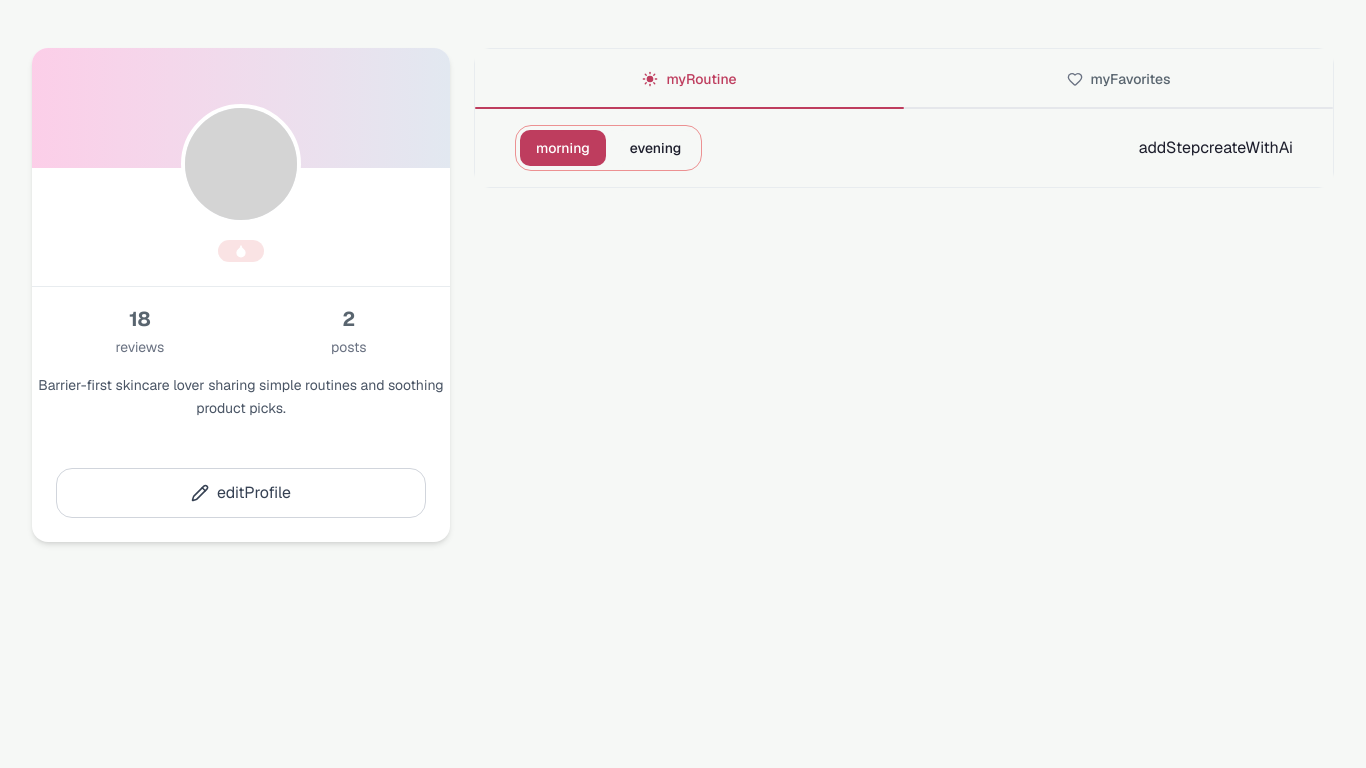
Test: HU-03: Profile Page › abre modal de edición
What coordinates should you click on to do the following:
click the button "editProfile"
I would click on:
 (241, 493)
Its box is [56,468,426,518].
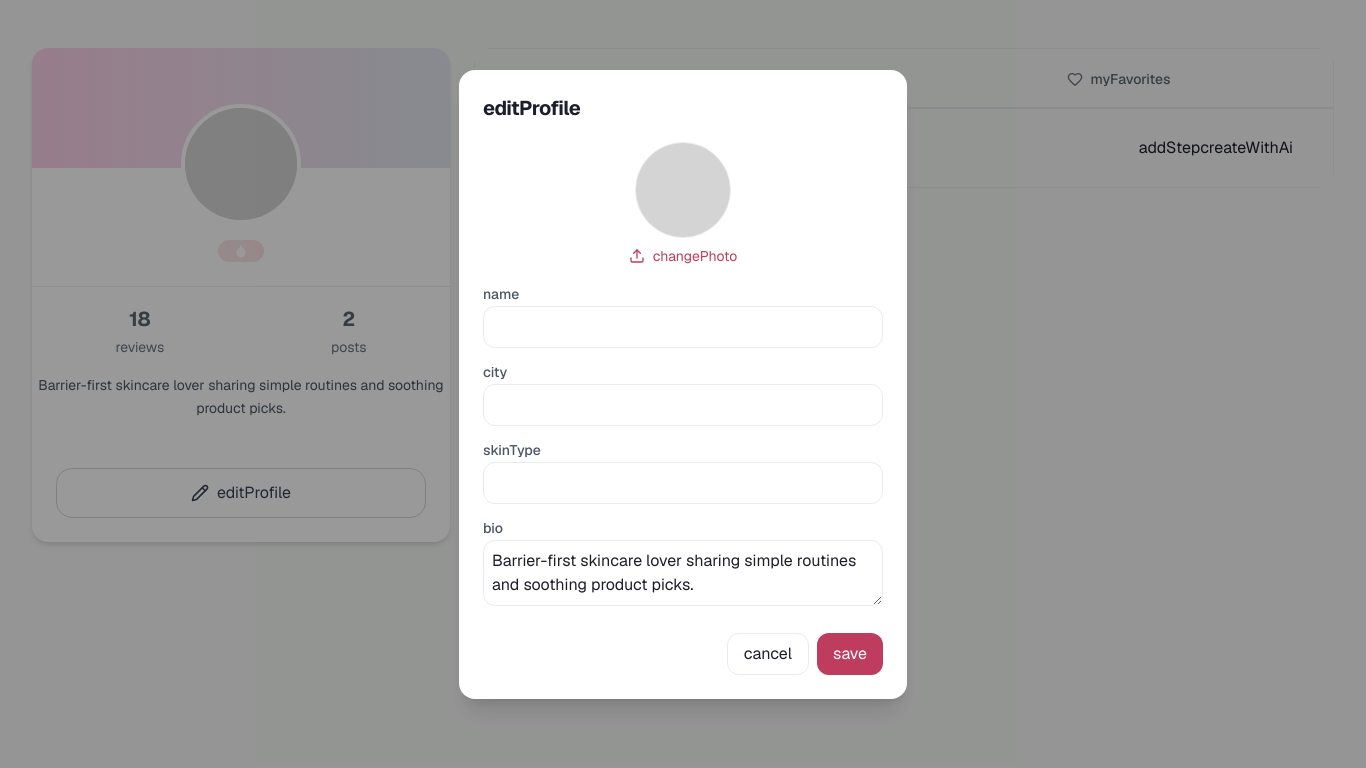
Expected: the text "name" is shown, [483,284,519,302]
